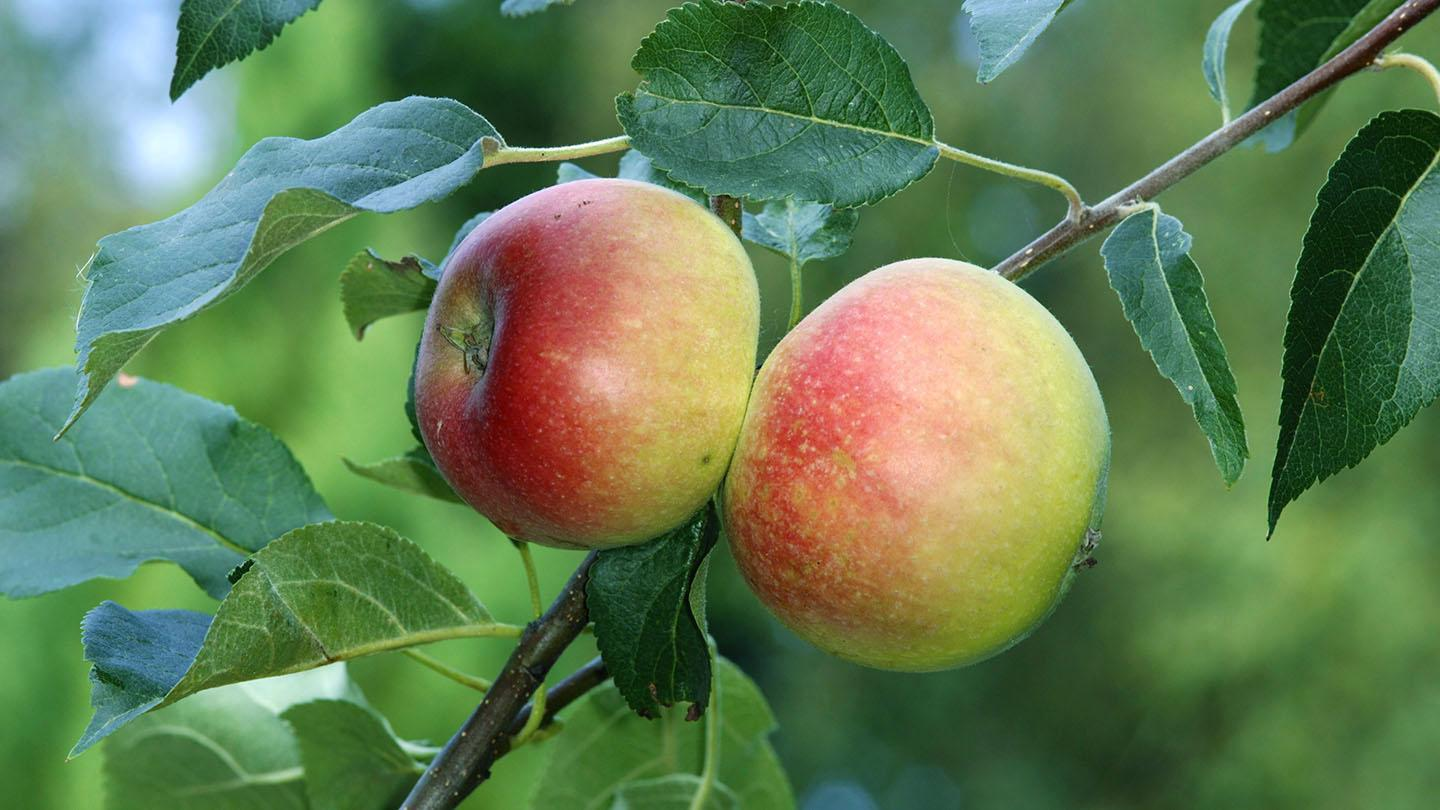apple: (702, 257, 1109, 675), (407, 168, 762, 539)
